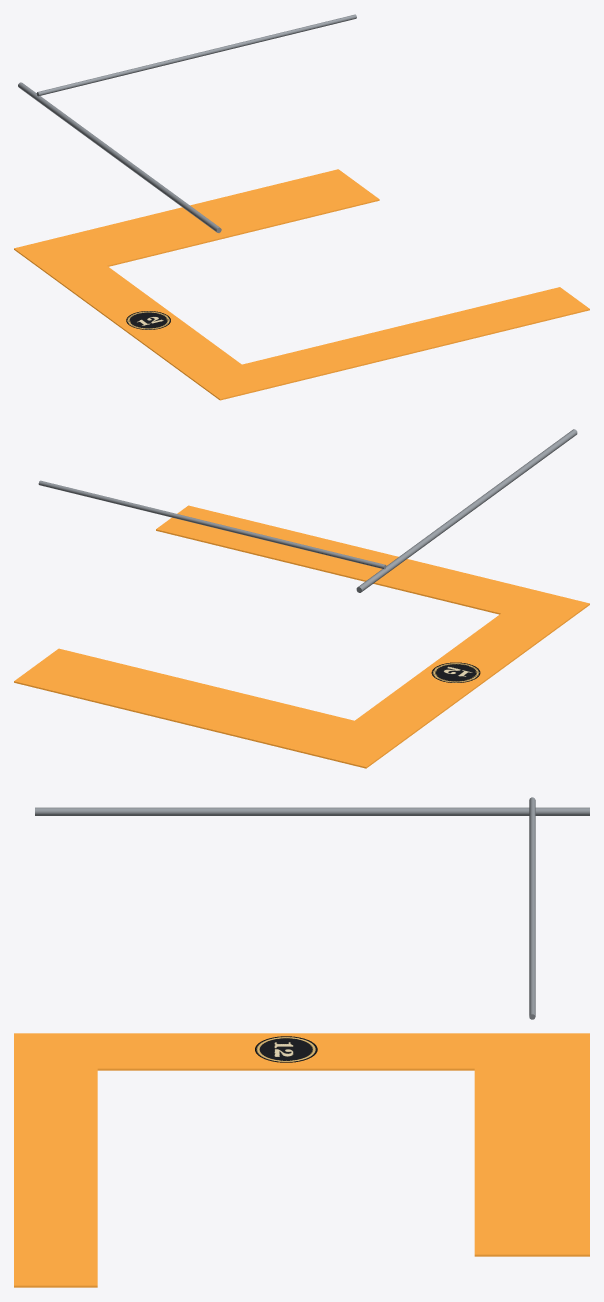
The model's file is item-passagem.glb.
3 renders of one model, top to bottom at view 1: azimuth 30°, elevation 25°; view 2: azimuth 150°, elevation 25°; view 3: azimuth 270°, elevation 25°, orthographic. The views are drawn at different scales.
Parts seen in each view (by area): view 1: passagem-de-servico, etiqueta-12; view 2: passagem-de-servico, etiqueta-12; view 3: passagem-de-servico, etiqueta-12.
Part boxes in pixels (x1,y1,x2,y2): passagem-de-servico: (14, 14, 589, 400); etiqueta-12: (126, 311, 170, 329); passagem-de-servico: (14, 429, 589, 768); etiqueta-12: (431, 662, 480, 682); passagem-de-servico: (14, 797, 589, 1287); etiqueta-12: (255, 1036, 317, 1062).
Bounding box in the file's own units: 5.7 × 2.53 × 5.5.
3 materials, 1 textured.
